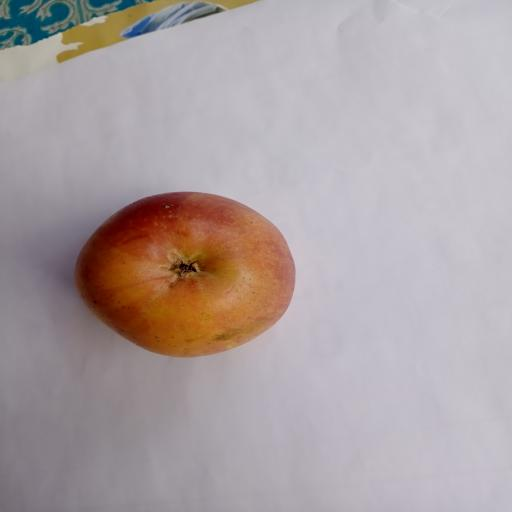apple-ripe: (65, 183, 300, 369)
